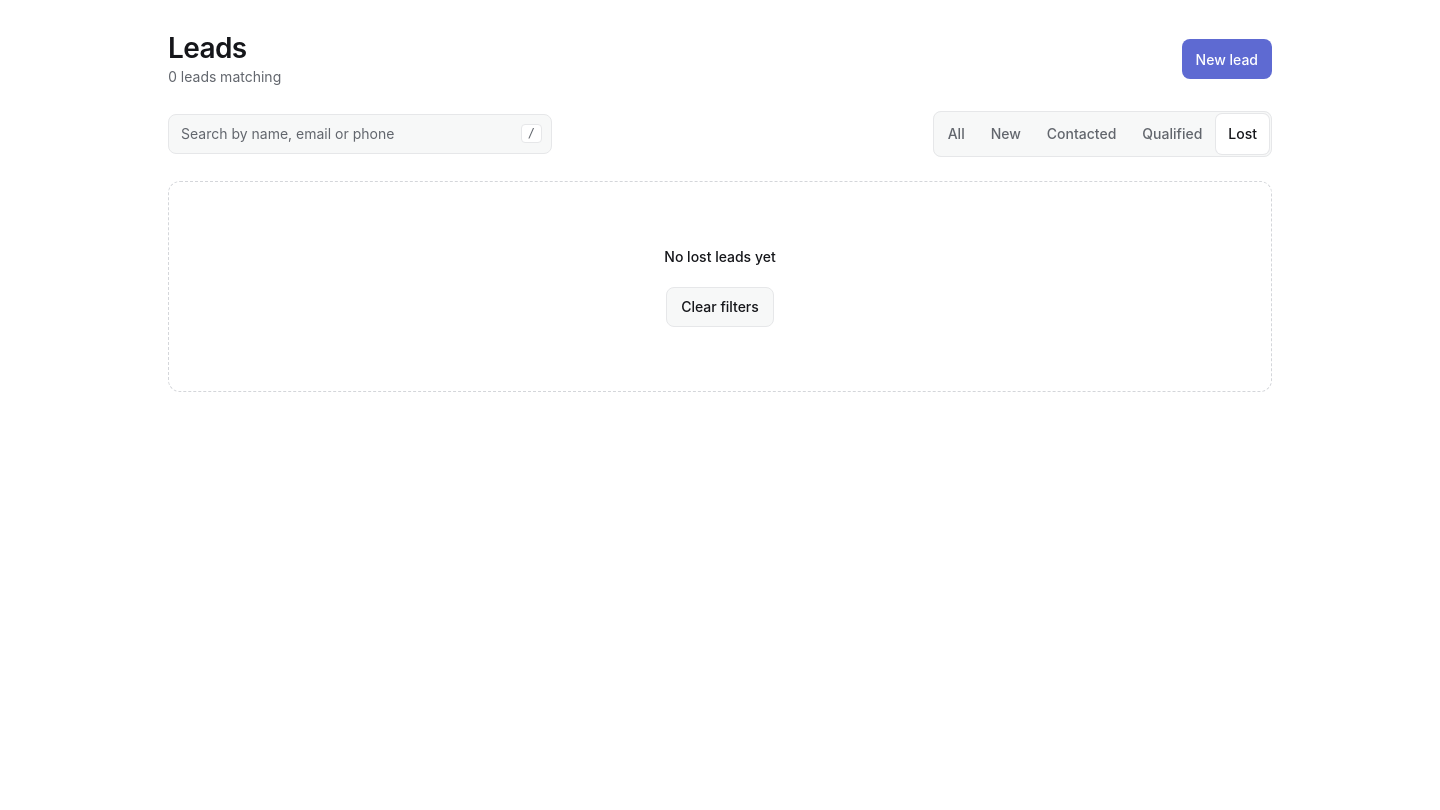
it: App › clears filters after creating a lead so the new lead is visible
Check: the text "No lost leads yet" is shown, box top-left (664, 246), bottom-right (776, 267)
Click the button "New lead".
click(1227, 59)  # box top-left (1182, 39), bottom-right (1272, 79)
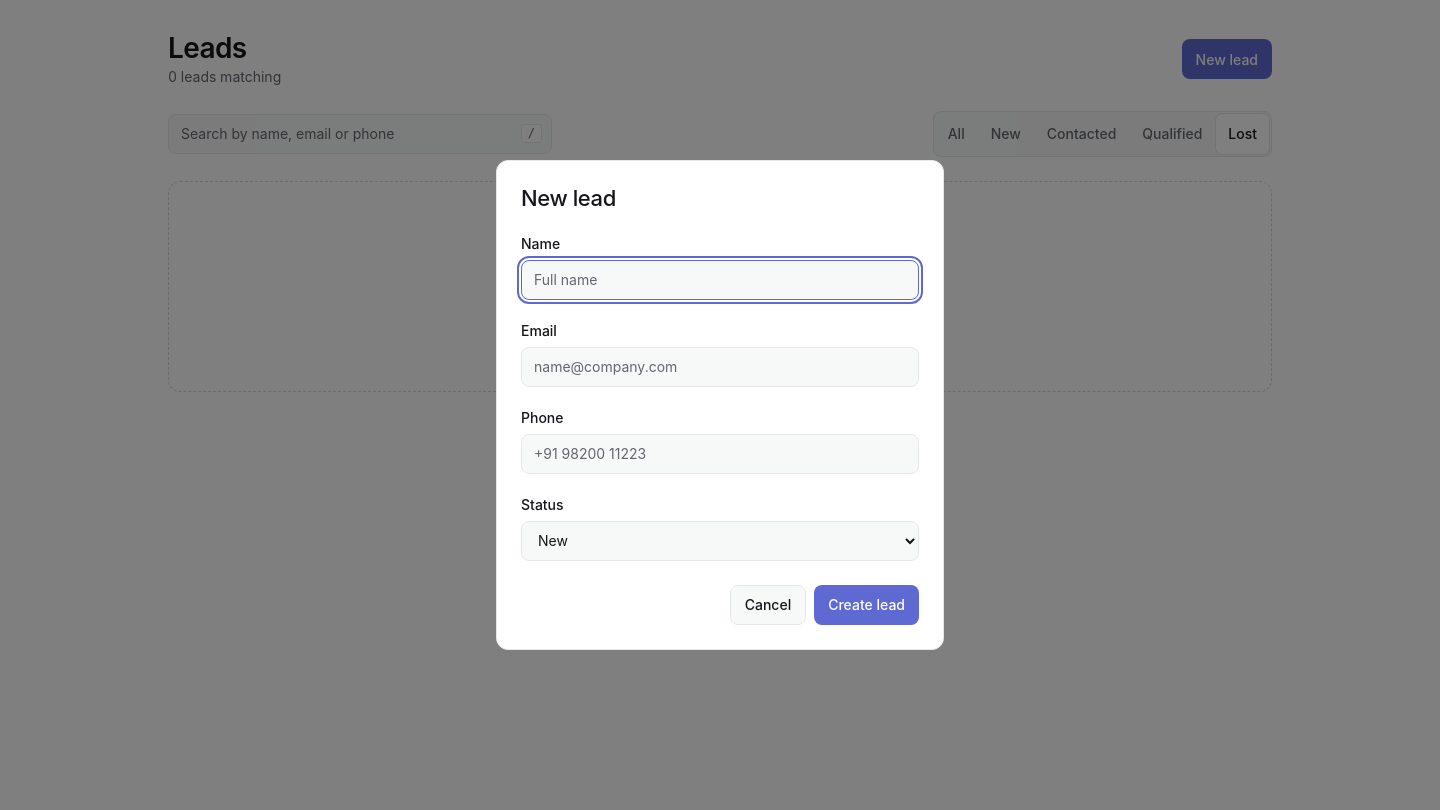
Type "Omar Haddad" into the field labelled "Name".
click(720, 280); type("Omar Haddad")  # box top-left (521, 260), bottom-right (919, 300)
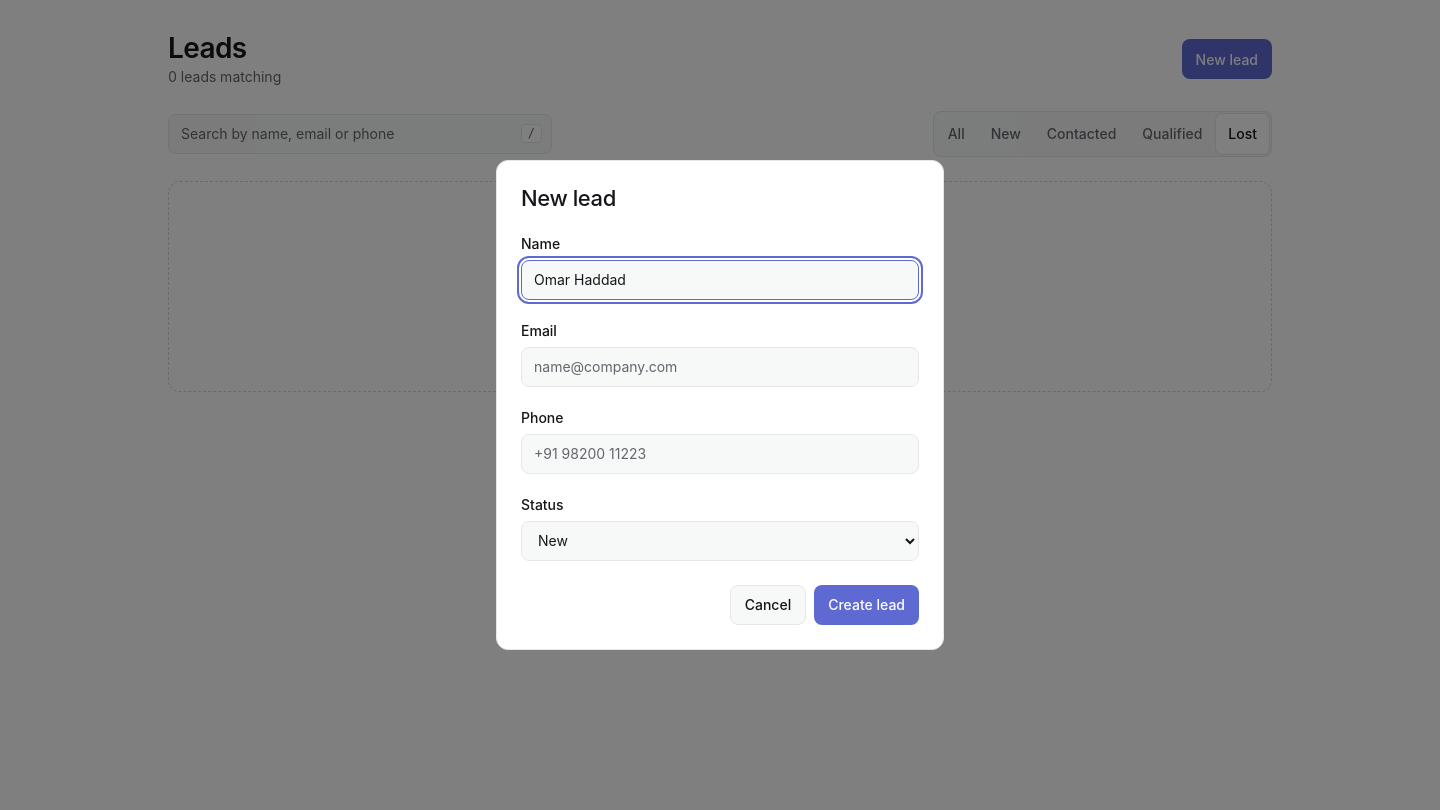
Type "omar@haddad.co" into the field labelled "Email".
click(720, 367); type("omar@haddad.co")  # box top-left (521, 347), bottom-right (919, 387)
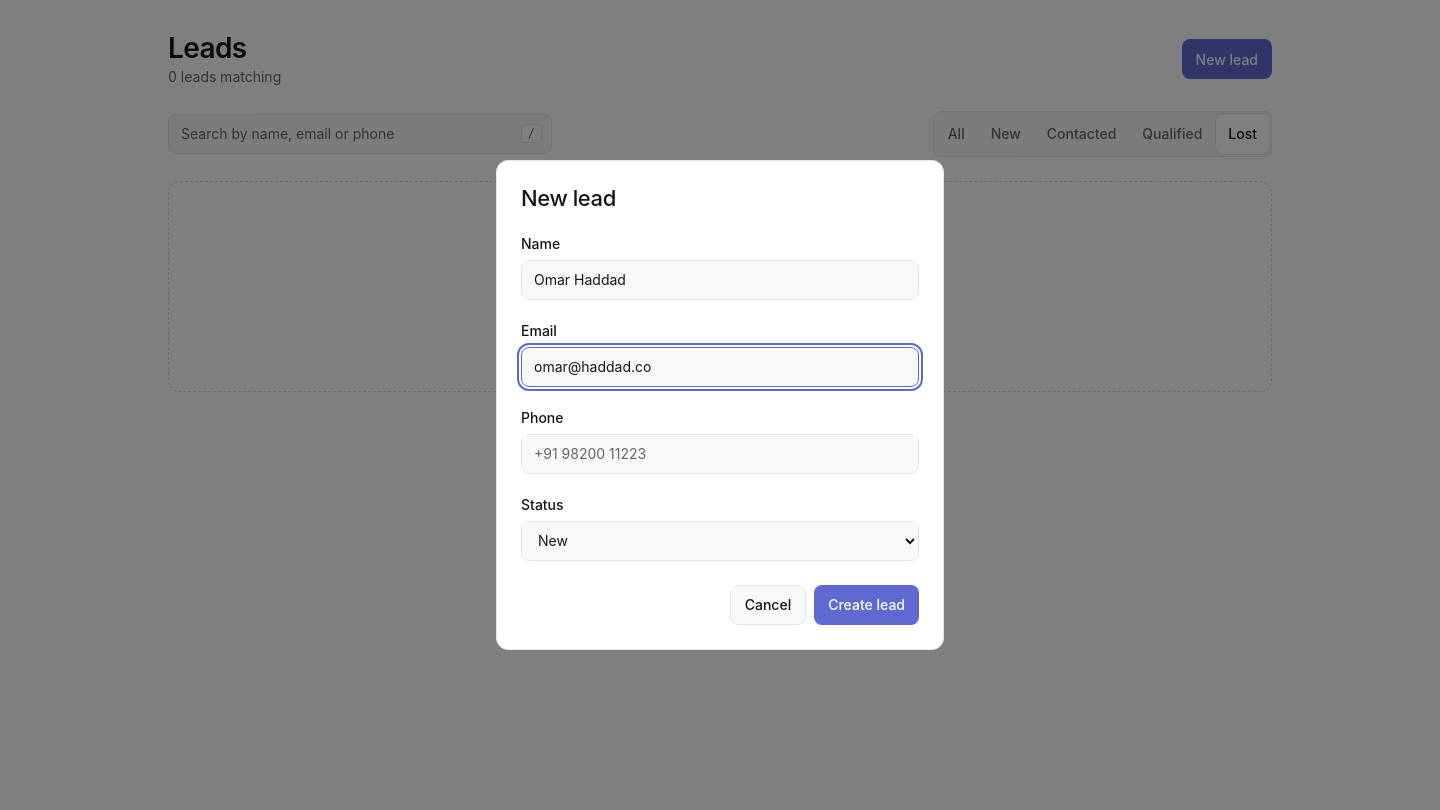
Type "+971 50 555 0100" into the field labelled "Phone".
click(720, 454); type("+971 50 555 0100")  # box top-left (521, 434), bottom-right (919, 474)
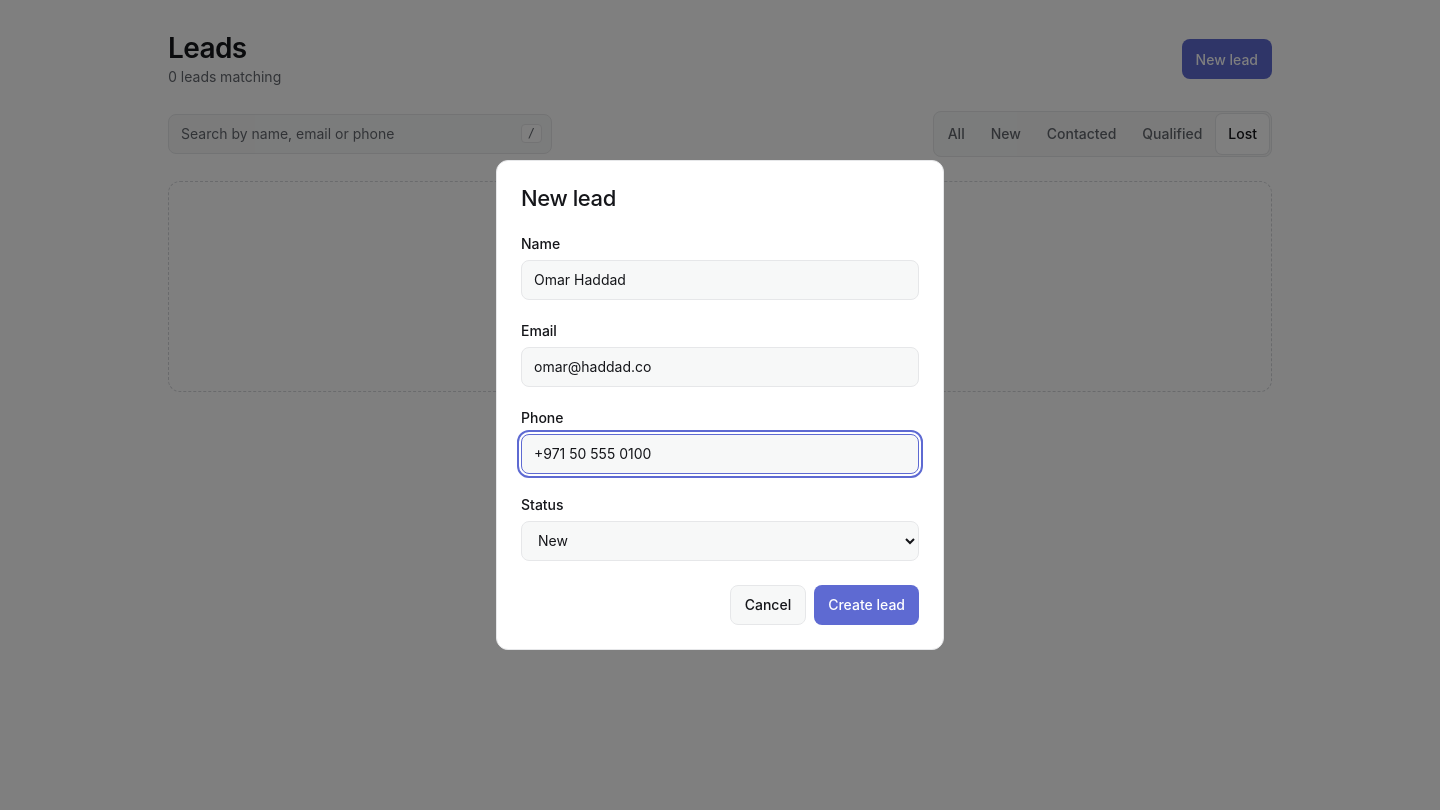
Click the button "Create lead".
click(867, 605)  # box top-left (814, 585), bottom-right (919, 625)
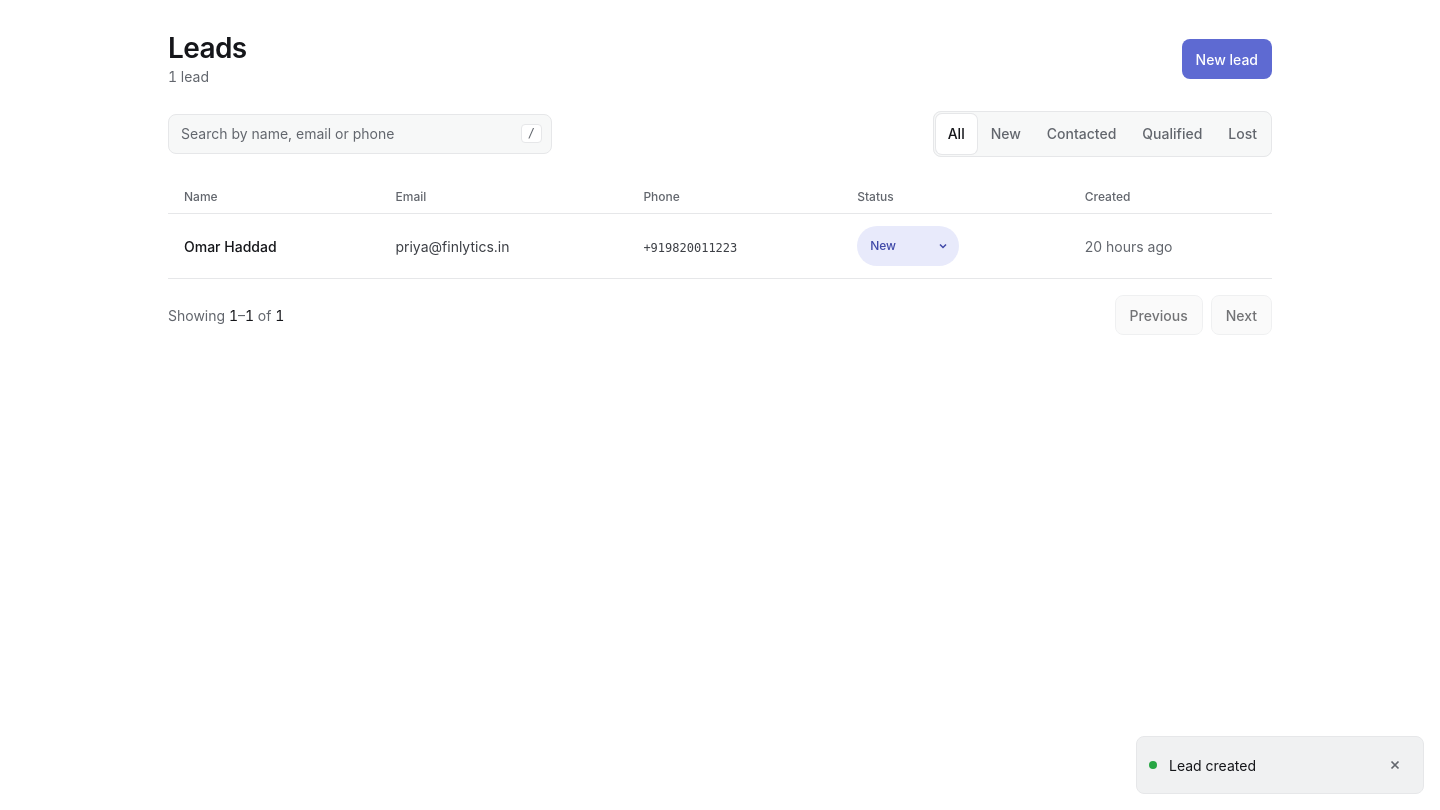
Check: the cell "Omar Haddad" is shown, box top-left (168, 214), bottom-right (380, 279)
